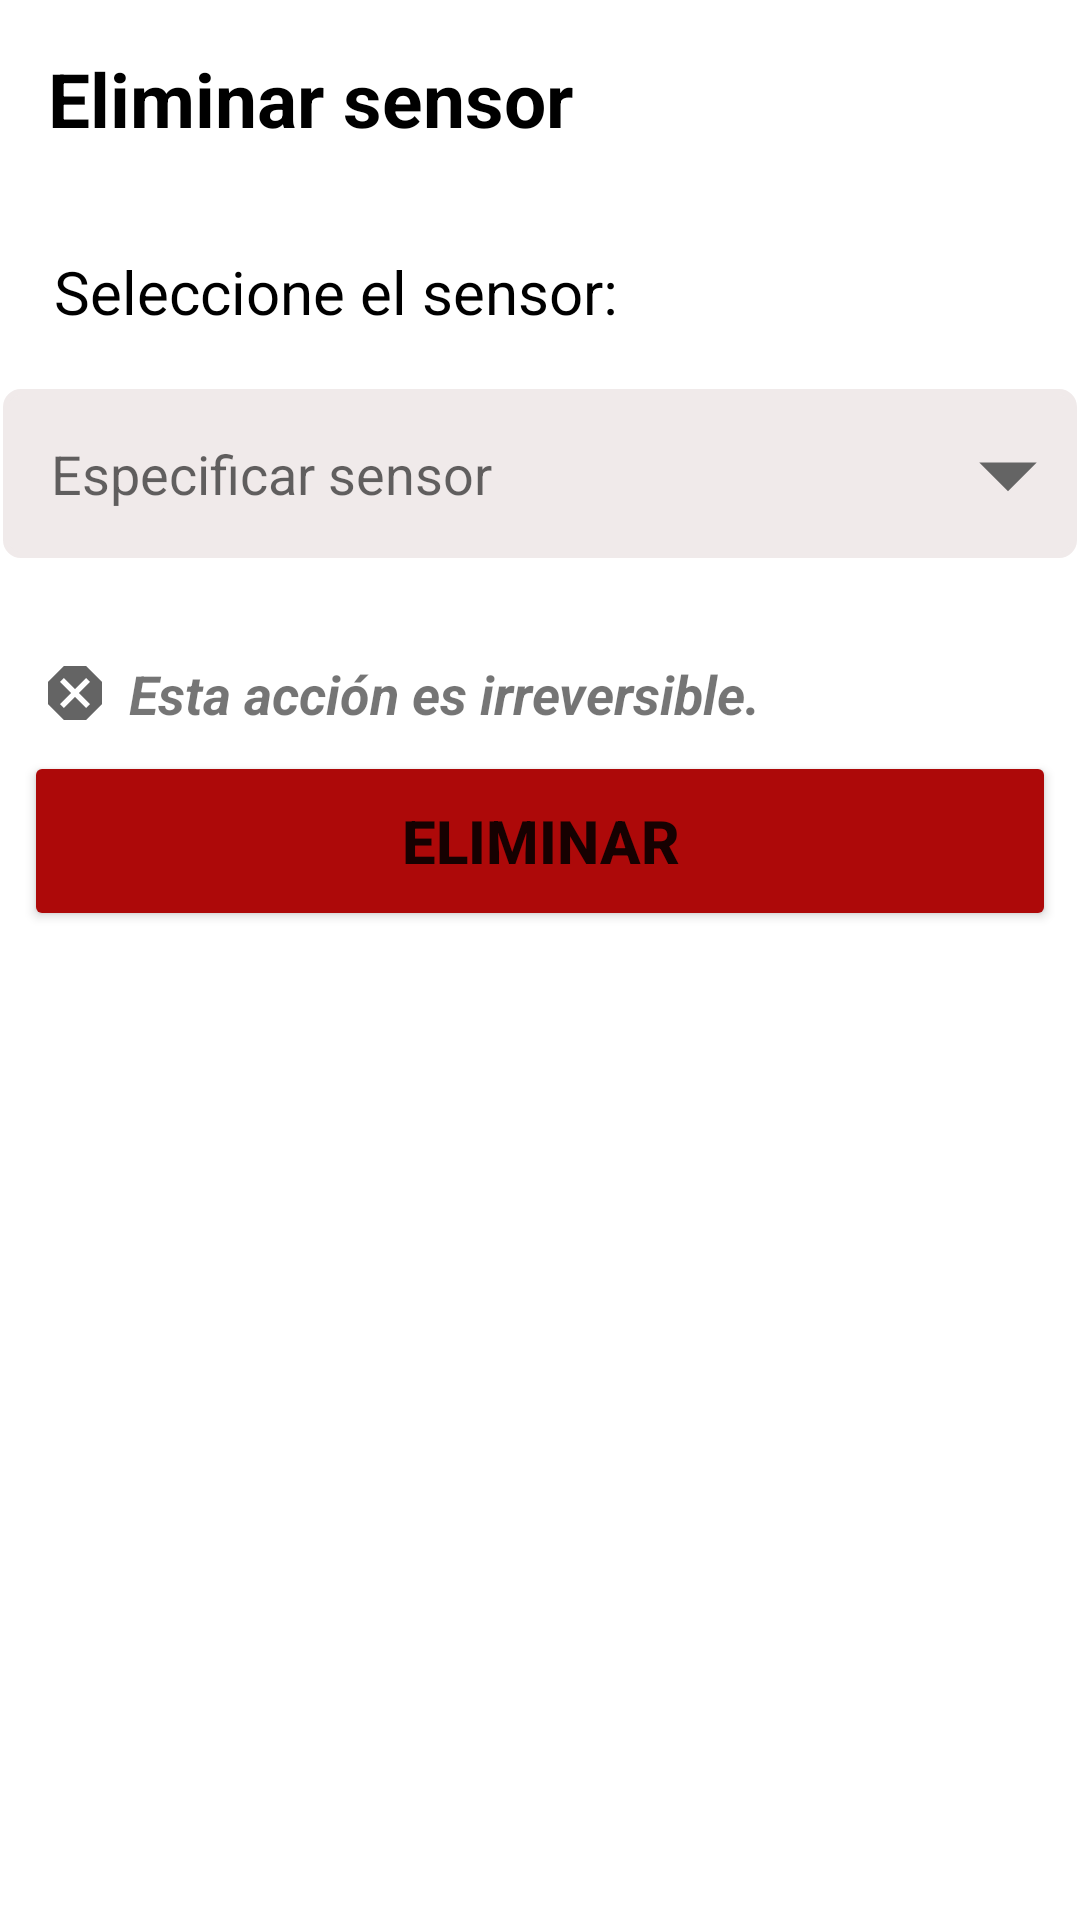

Icons on this 1080px x 1920px Android screen, each with its box as (x1, y1, x2, y2):
arrow drop down: (979, 462, 1037, 491)
